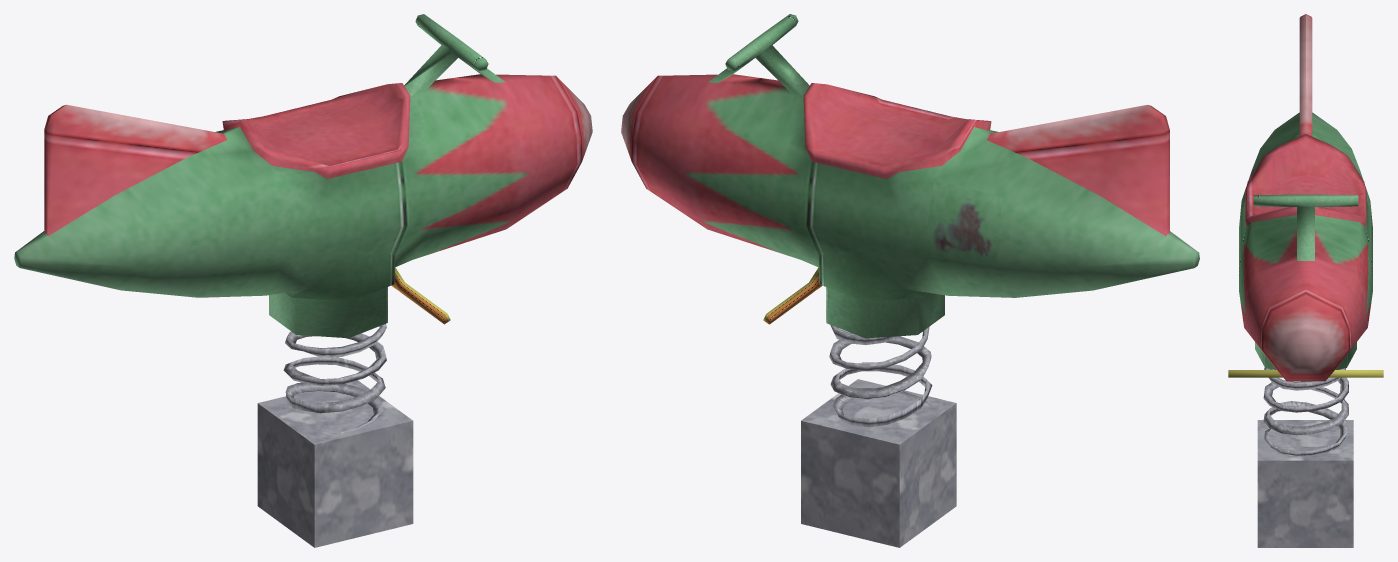
Rendered from Model_Ride.fbx.
3 renders of one model, left to right at view 1: azimuth 30°, elevation 25°; view 2: azimuth 150°, elevation 25°; view 3: azimuth 270°, elevation 25°, orthographic. The views are drawn at different scales.
Parts seen in each view (by area): view 1: Ride; view 2: Ride; view 3: Ride.
Part boxes in pixels (bbox=[...]): Ride: bbox=[14, 14, 592, 547]; Ride: bbox=[621, 14, 1199, 547]; Ride: bbox=[1228, 14, 1383, 547].
Size of the model in its own units: 167 by 134 by 46.85.
